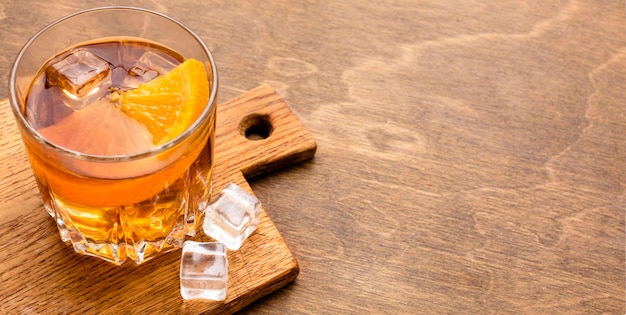alcohol: (8, 7, 220, 266)
